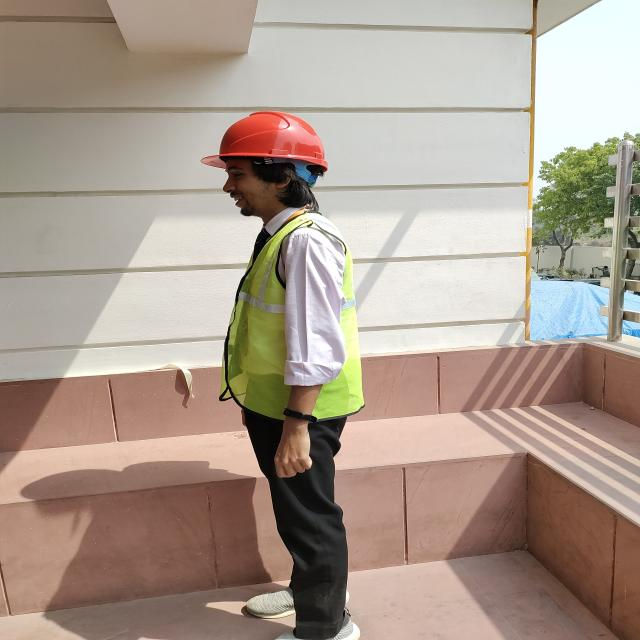safe: (200, 111, 366, 640)
